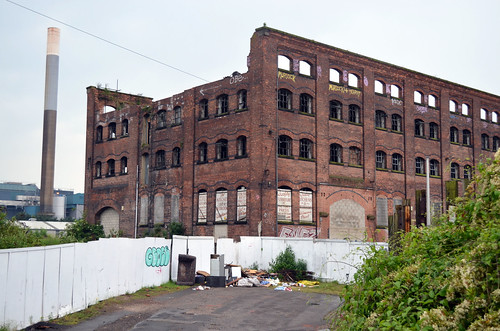building: (87, 58, 500, 239)
chimney: (39, 24, 65, 212)
graffiti: (144, 242, 173, 269)
sky: (78, 1, 500, 83)
trash: (167, 248, 307, 301)
vegetation: (343, 158, 500, 331)
